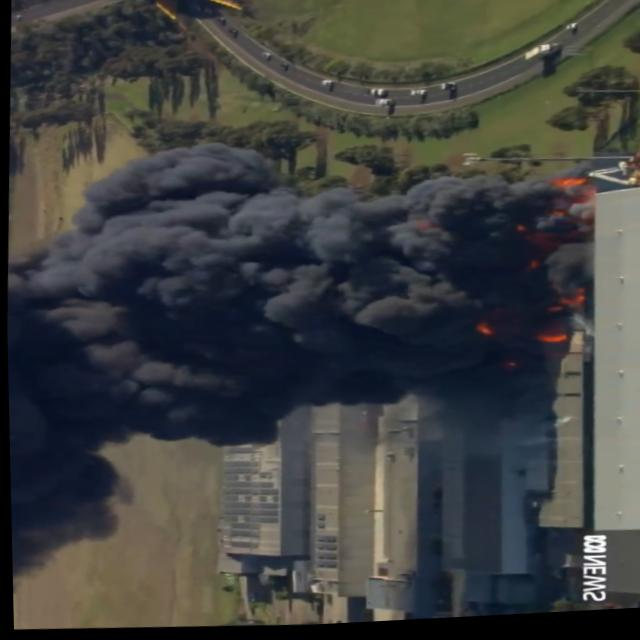Fire: (458, 323, 499, 347), (530, 338, 566, 351), (548, 183, 581, 195)
